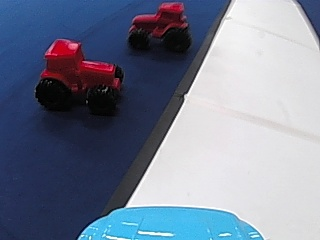tractor: (34, 35, 122, 112), (125, 2, 193, 52)
